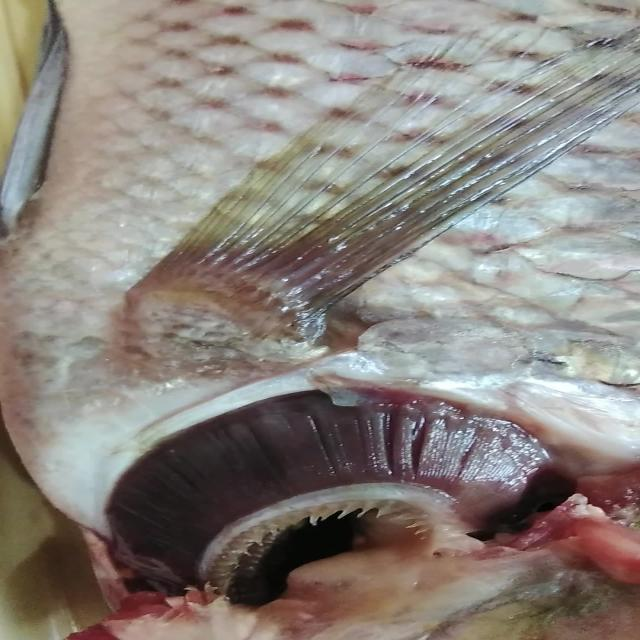Non-Fresh: (75, 381, 561, 600)
